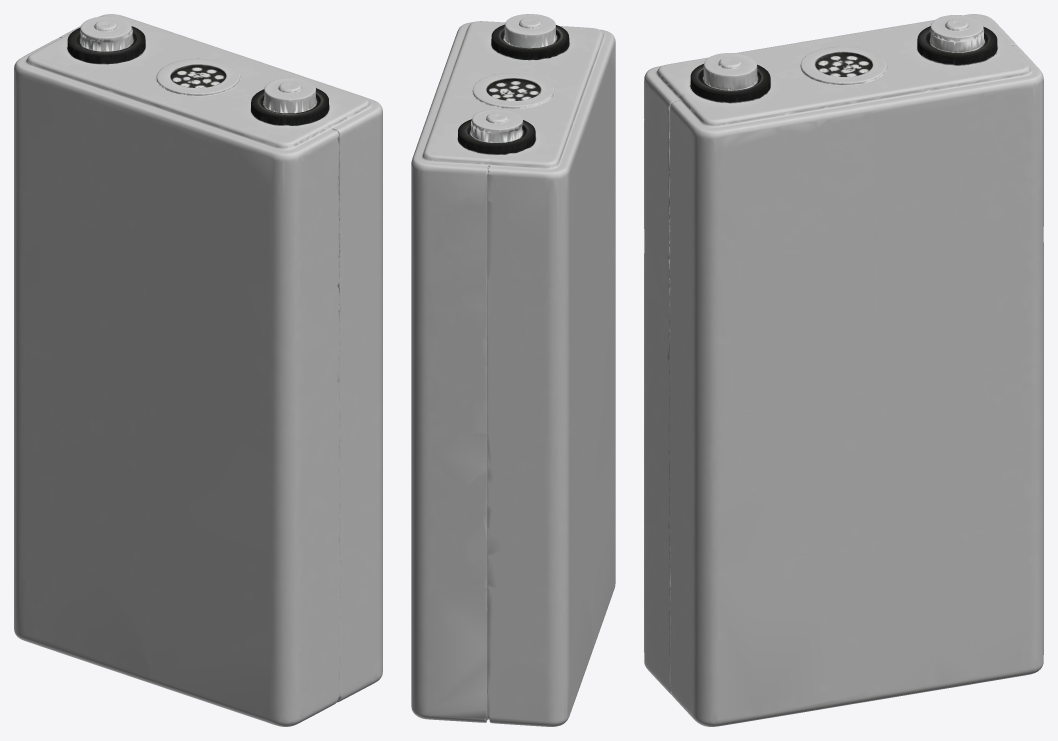
Rendered from cell.glb.
3 views of the same model, side by side, from view 1: azimuth 30°, elevation 25°; view 2: azimuth 150°, elevation 25°; view 3: azimuth 270°, elevation 25° (orthographic). The views are drawn at different scales.
Visible parts, largest first — view 1: tripo_node_282c4fb8-e3cc-4b1c-8635-b7dfd3f6a78a; view 2: tripo_node_282c4fb8-e3cc-4b1c-8635-b7dfd3f6a78a; view 3: tripo_node_282c4fb8-e3cc-4b1c-8635-b7dfd3f6a78a.
Part boxes in pixels (box(x1,y1,x2,y2)): tripo_node_282c4fb8-e3cc-4b1c-8635-b7dfd3f6a78a: box(14, 14, 382, 726); tripo_node_282c4fb8-e3cc-4b1c-8635-b7dfd3f6a78a: box(411, 14, 615, 726); tripo_node_282c4fb8-e3cc-4b1c-8635-b7dfd3f6a78a: box(644, 14, 1043, 726).
Size of the model in its own units: 13214 by 32087 by 18528.
Materials: 1 (1 with a texture image).
